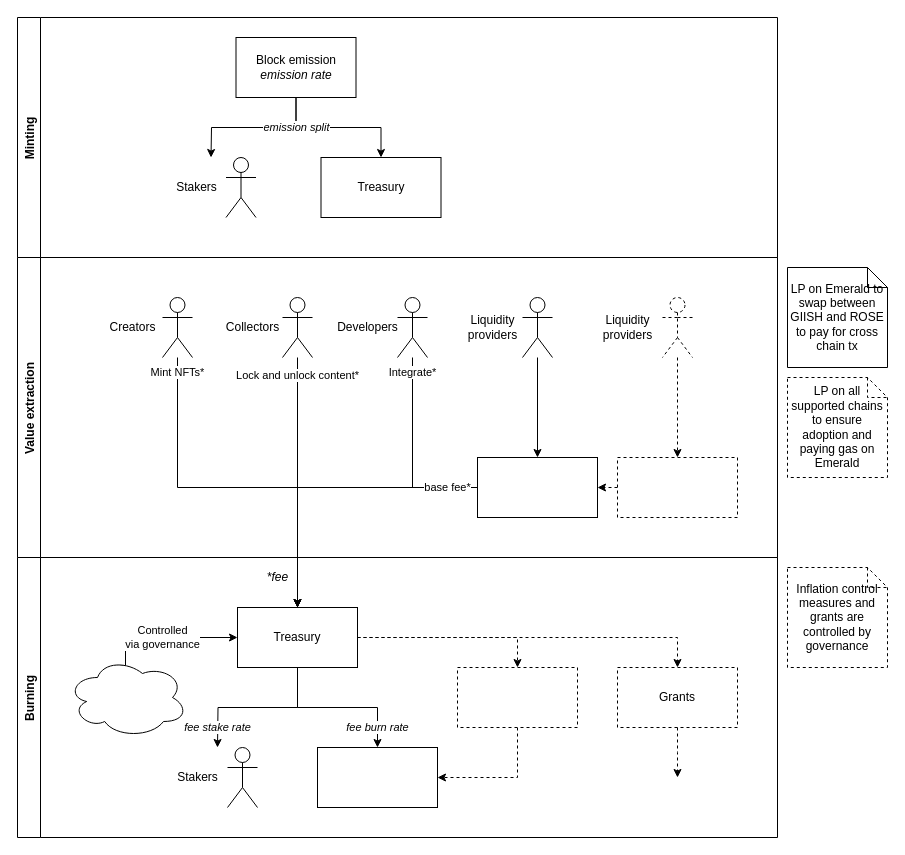
This 905x855 diagram has some shape labels left out. Here are the shapes that lost their labels. From the top down, the centre of each, then its label:
At point (537, 487): "LP GIISH/ROSE".
At point (677, 487): "LP GIISH/X".
At point (127, 697): "GIISH holders".
At point (517, 697): "Inflation control measures".
At point (377, 777): "Burn".
